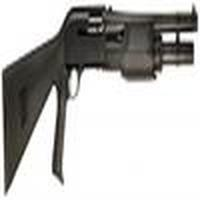gun: (1, 6, 200, 143)
